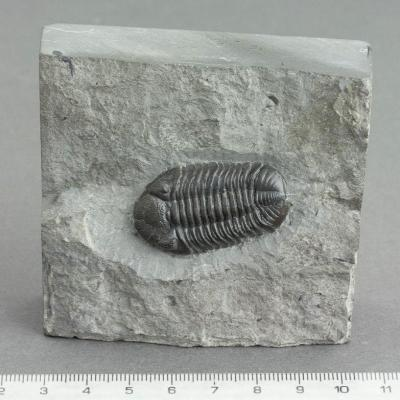natural_science_collection: (130, 149, 293, 258)
